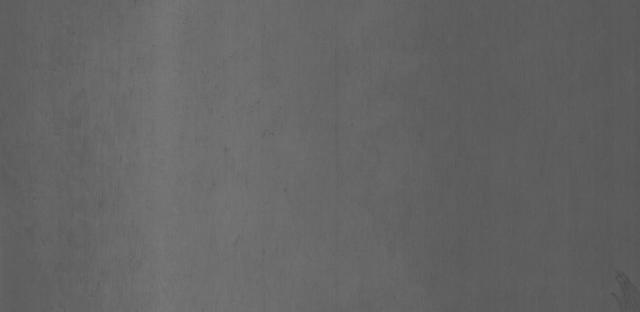water_spot: (609, 266, 639, 312)
